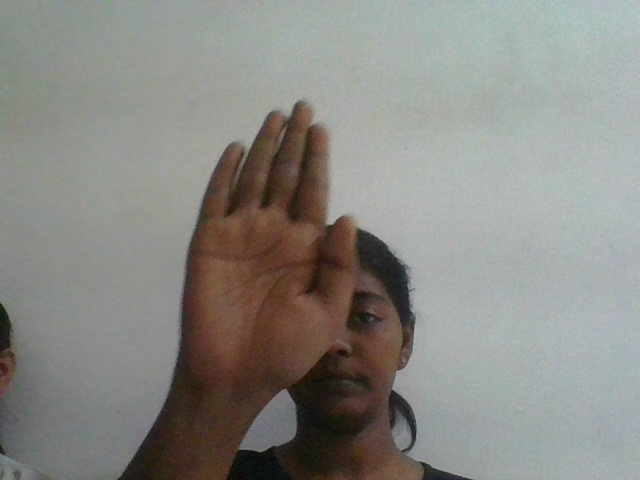Hello: (166, 96, 361, 388)
